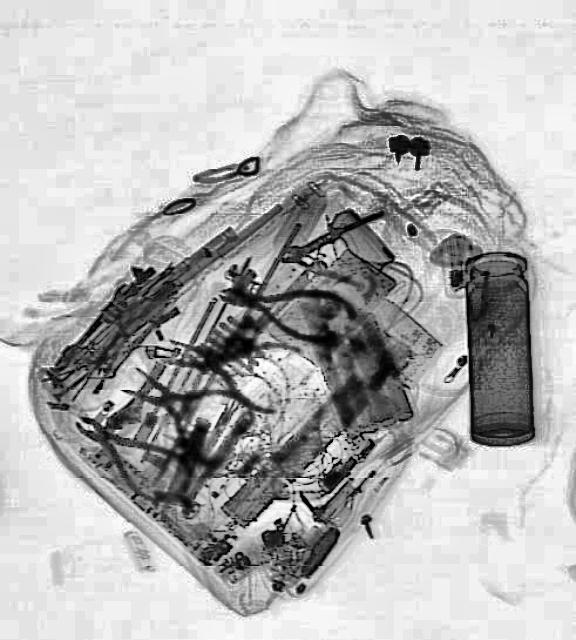Pliers: (110, 342, 264, 472), (154, 312, 306, 416), (58, 394, 190, 508), (213, 261, 358, 351)
